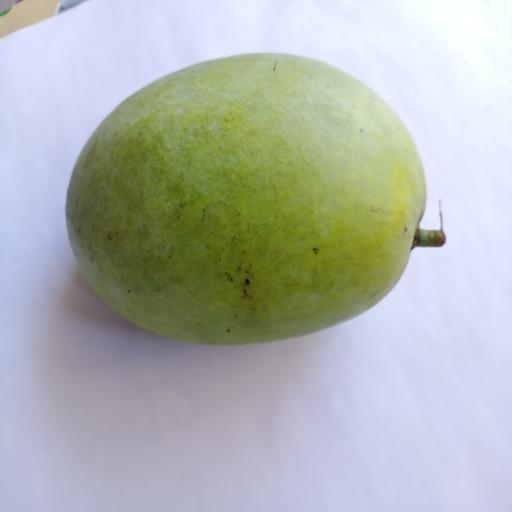mango-unripe: (61, 48, 455, 356)
